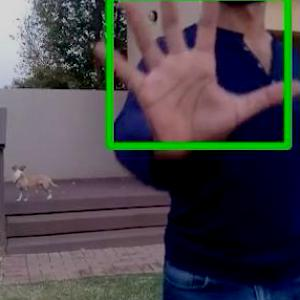follow_hand: (87, 0, 299, 149)
